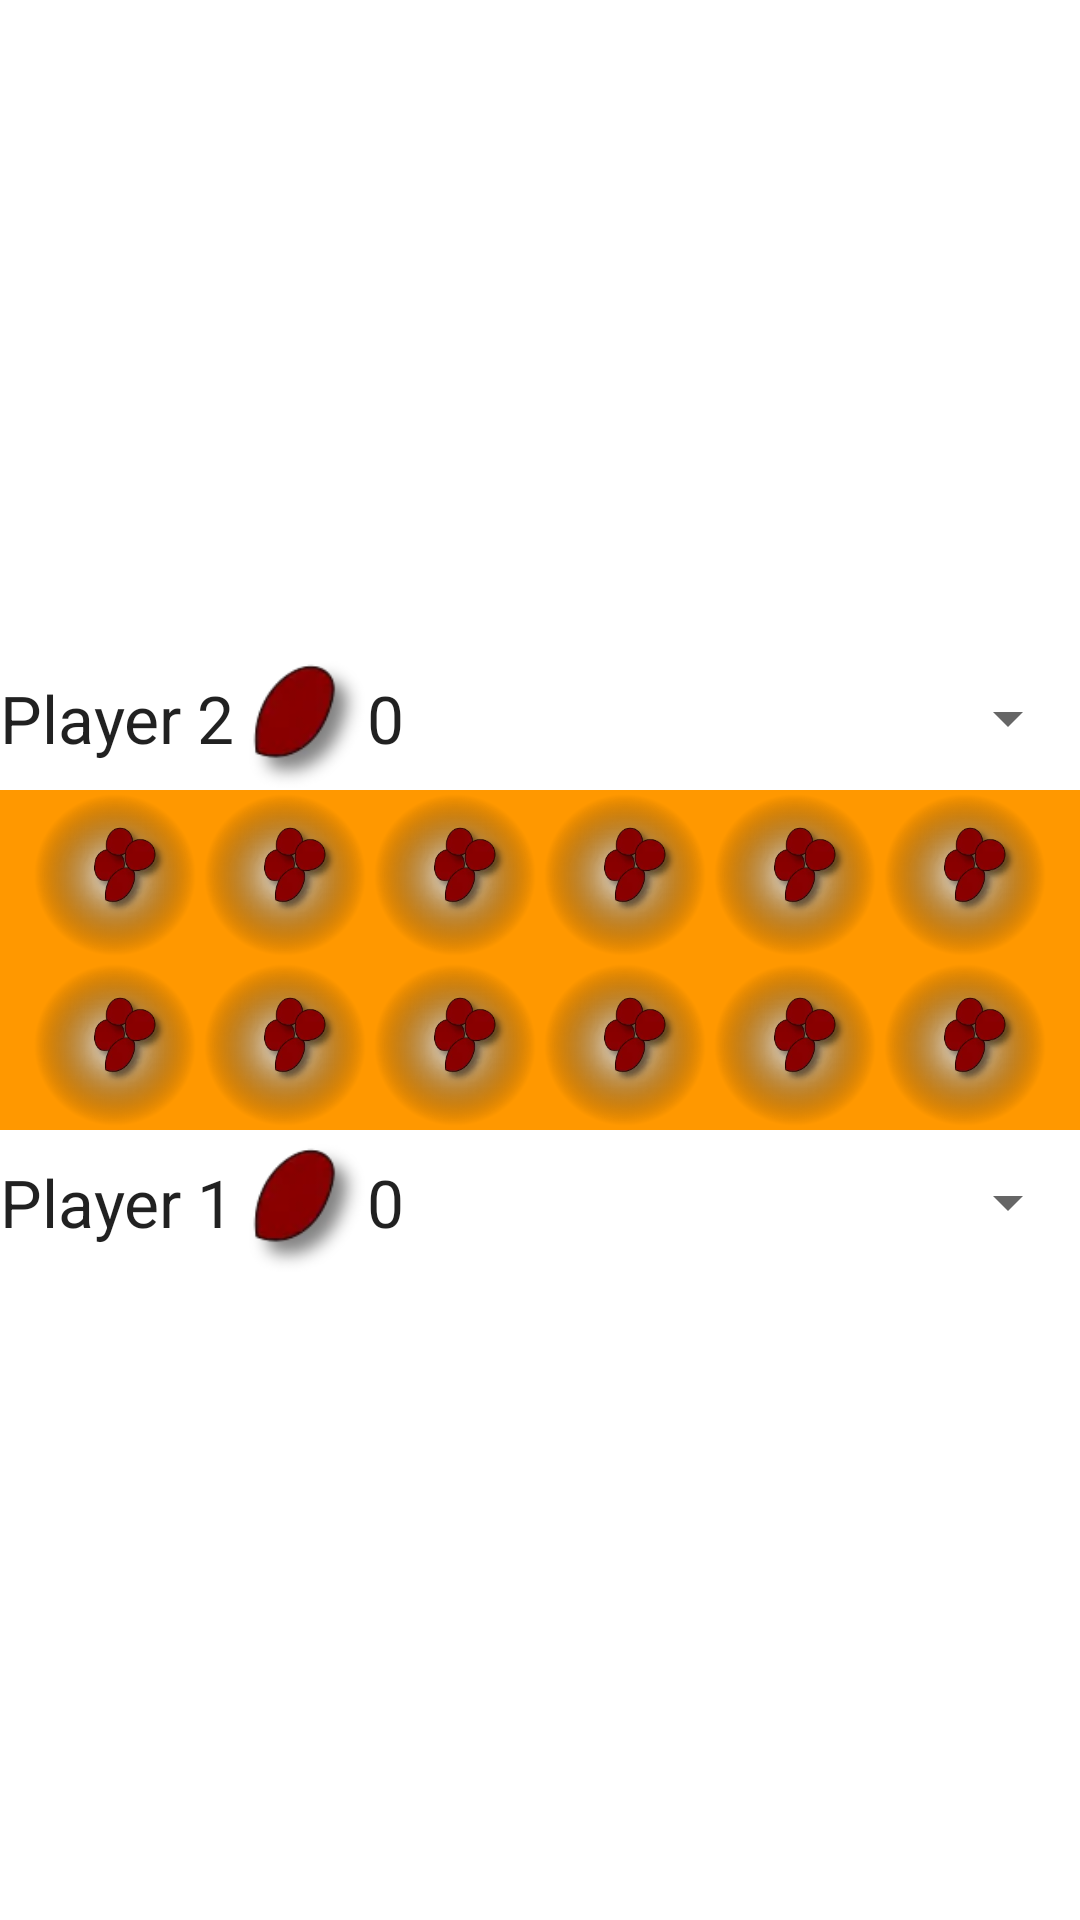

Point at icon controls on the screen. Image size 1080 × 1920, points as (x=x, y=y).
seed: (x=303, y=720), (x=303, y=1204)
